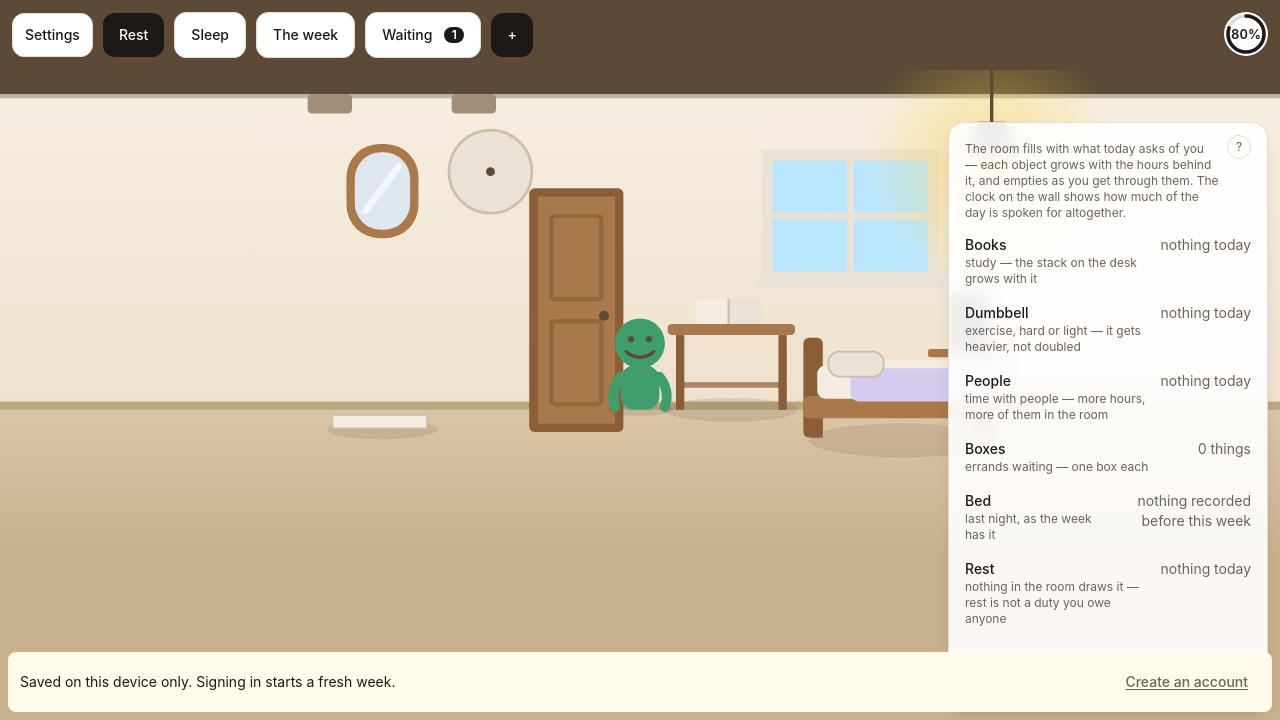
Test: the low-energy override, reachable from the settings sheet › lets a rested student turn the simplified interface on
Expected: the button with test id "open-week" is shown, [256,12,355,58]
Click the button with test id "open-settings" at (52, 35), box [12,13,93,57]
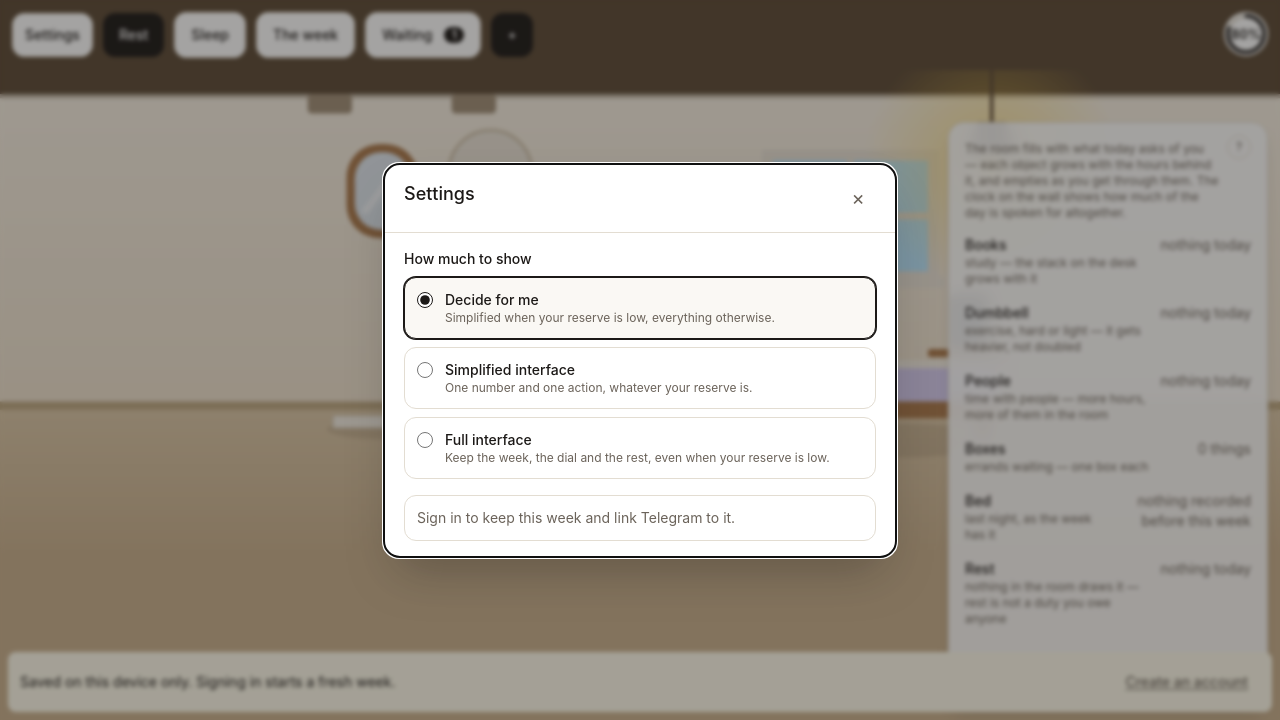
Click the radio button labelled "Simplified interface" at (425, 370), box [417,362,433,378]
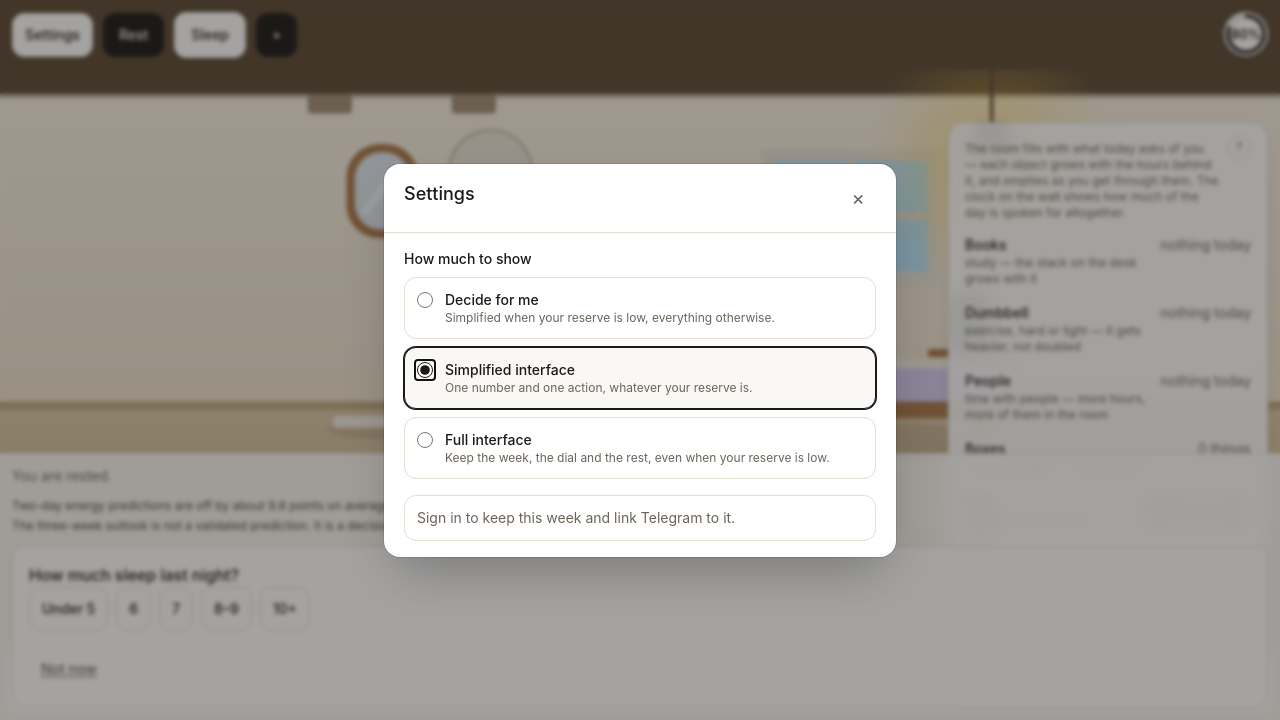
Expected: the button with test id "open-week" is gone
